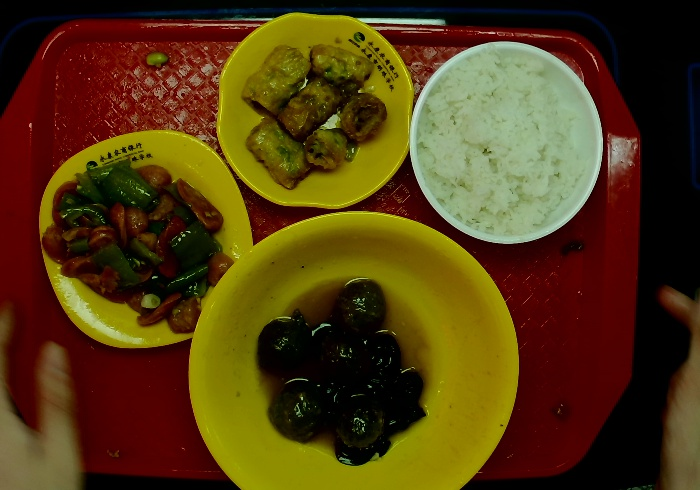YKMZ-Fan_Wan: (407, 39, 609, 248)
YKMZ-Huang_Se_Ao_Bian_Wan: (210, 9, 418, 213)
YKMZ-Huang_Se_Fang_Die: (34, 125, 256, 353)
YKMZ-Huang_Se_Tang_Wan: (184, 206, 523, 490)
